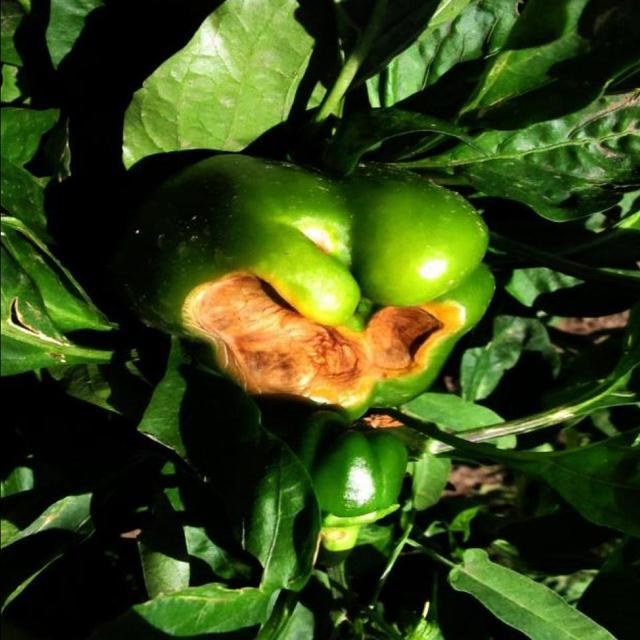Sunscald Fruit: (167, 129, 280, 323)
